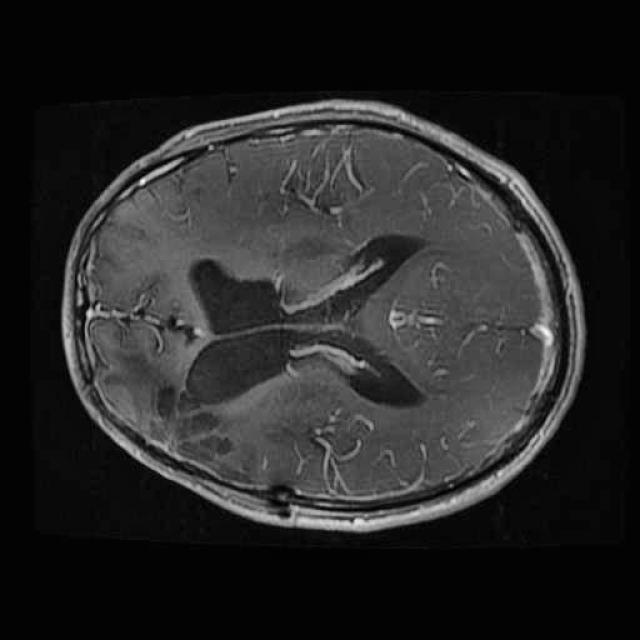Tumor: (128, 360, 252, 480)
